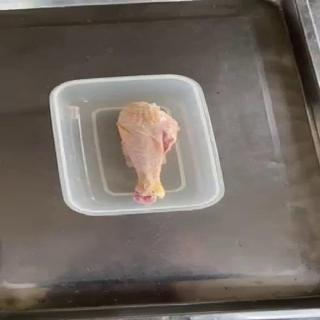Ayam: (116, 102, 182, 206)
